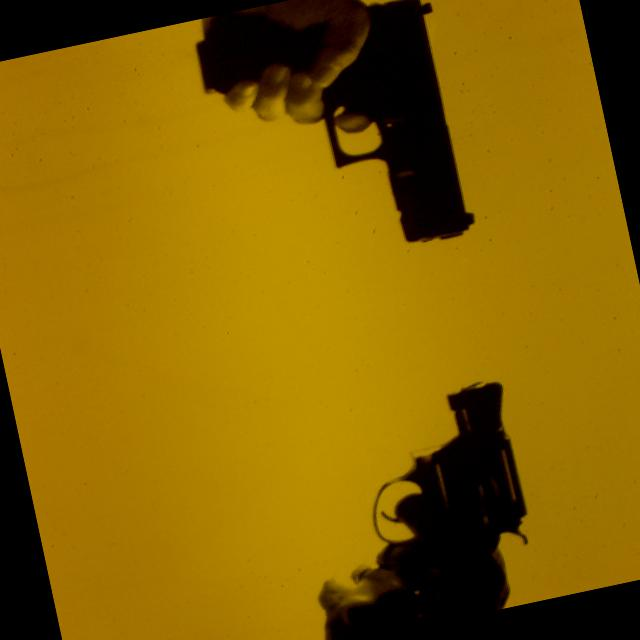handgun: (281, 373, 554, 639)
